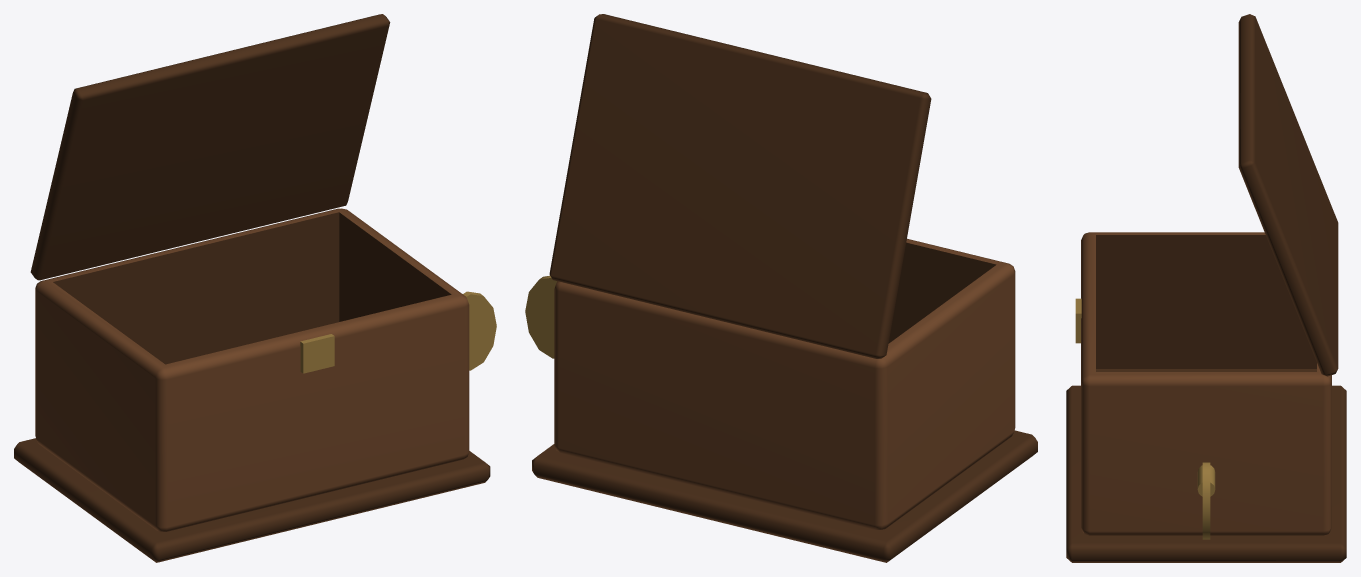
The model's file is musicbox.glb.
The picture shows the model from 3 angles, left to right: view 1: azimuth 30°, elevation 25°; view 2: azimuth 150°, elevation 25°; view 3: azimuth 270°, elevation 25°; orthographic projection. The views are drawn at different scales.
Visible parts, largest first — view 1: MB_Body, MB_Lid, MB_Plinth, MB_KeyBow, MB_Clasp; view 2: MB_Lid, MB_Body, MB_Plinth, MB_KeyBow; view 3: MB_Body, MB_Lid, MB_Plinth, MB_KeyBow.
Part boxes in pixels (x1,y1,x2,y2): MB_Body: [35, 208, 469, 531]; MB_Lid: [30, 14, 390, 280]; MB_Plinth: [14, 438, 490, 562]; MB_KeyBow: [463, 291, 496, 370]; MB_Clasp: [300, 334, 334, 373]; MB_Lid: [549, 14, 931, 358]; MB_Body: [554, 238, 1015, 529]; MB_Plinth: [532, 430, 1037, 562]; MB_KeyBow: [525, 275, 557, 358]; MB_Body: [1081, 232, 1331, 535]; MB_Lid: [1238, 14, 1338, 376]; MB_Plinth: [1066, 385, 1346, 562]; MB_KeyBow: [1202, 462, 1210, 539].
Size of the model in its own units: 0.316 by 0.2968 by 0.19.
